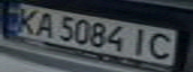0: (69, 17, 93, 46)
4: (106, 23, 130, 53)
5: (54, 14, 78, 43)
8: (87, 20, 109, 48)
A: (30, 10, 60, 38)
C: (145, 30, 181, 61)
I: (127, 26, 154, 56)
K: (9, 6, 42, 35)
